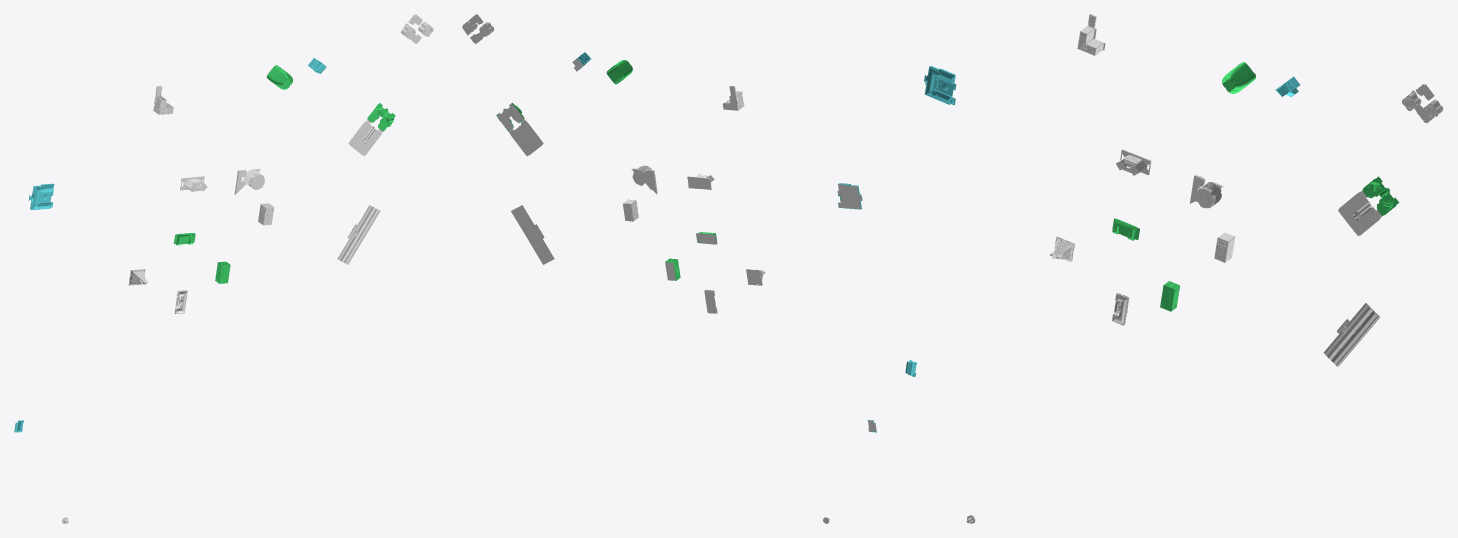
3 views of the same model, side by side, from view 1: azimuth 30°, elevation 25°; view 2: azimuth 150°, elevation 25°; view 3: azimuth 330°, elevation 25° (orthographic). The views are drawn at different scales.
Bounding box in the file's own units: 6540 × 6393 × 330.
